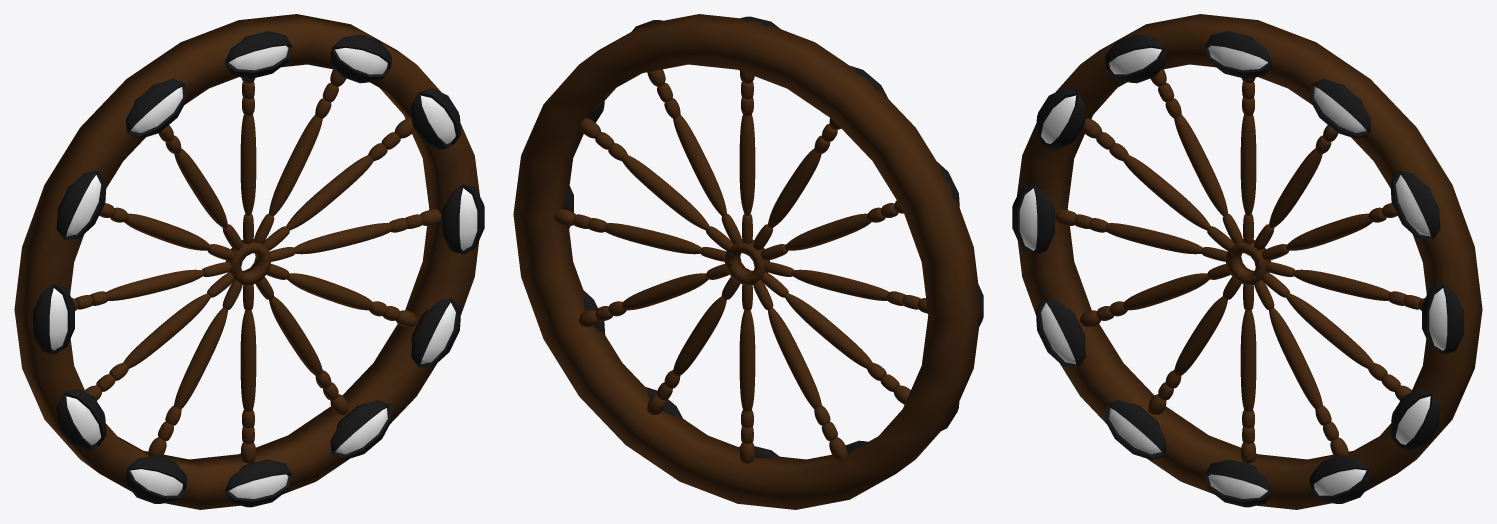
The model's file is BossWheelSplitBig.FBX.
3 views of the same model, side by side, from view 1: azimuth 30°, elevation 25°; view 2: azimuth 150°, elevation 25°; view 3: azimuth 330°, elevation 25° (orthographic).
Parts seen in each view (by area): view 1: wheelOuter, wheelEye005, wheelEye006, wheelEye011, wheelEye012, wheelEye004, wheelEye007, wheelEye1, wheelEye010, wheelEye009, wheelEye003, wheelEye002 (+1 smaller); view 2: wheelOuter; view 3: wheelOuter, wheelEye009, wheelEye008, wheelEye003, wheelEye002, wheelEye010, wheelEye007, wheelEye1, wheelEye004, wheelEye005, wheelEye011, wheelEye012 (+1 smaller).
Boxes of the visible parts, x1=… form: wheelOuter: x1=14, y1=14, x2=479, y2=509; wheelEye005: x1=411, y1=298, x2=460, y2=367; wheelEye006: x1=330, y1=400, x2=391, y2=460; wheelEye011: x1=56, y1=171, x2=106, y2=240; wheelEye012: x1=126, y1=78, x2=187, y2=138; wheelEye004: x1=442, y1=184, x2=484, y2=254; wheelEye007: x1=224, y1=459, x2=292, y2=507; wheelEye1: x1=224, y1=31, x2=292, y2=79; wheelEye010: x1=33, y1=284, x2=74, y2=354; wheelEye009: x1=56, y1=389, x2=106, y2=450; wheelEye003: x1=411, y1=88, x2=460, y2=149; wheelEye002: x1=330, y1=34, x2=392, y2=83; wheelOuter: x1=513, y1=14, x2=980, y2=509; wheelOuter: x1=1017, y1=14, x2=1482, y2=509; wheelEye009: x1=1036, y1=298, x2=1085, y2=367; wheelEye008: x1=1105, y1=400, x2=1166, y2=460; wheelEye003: x1=1390, y1=171, x2=1440, y2=240; wheelEye002: x1=1309, y1=78, x2=1370, y2=138; wheelEye010: x1=1012, y1=184, x2=1054, y2=254; wheelEye007: x1=1204, y1=459, x2=1272, y2=507; wheelEye1: x1=1204, y1=31, x2=1272, y2=79; wheelEye004: x1=1422, y1=284, x2=1463, y2=354; wheelEye005: x1=1390, y1=389, x2=1440, y2=450; wheelEye011: x1=1036, y1=88, x2=1085, y2=149; wheelEye012: x1=1104, y1=34, x2=1166, y2=83.
Size of the model in its own units: 123 by 123 by 12.23.
